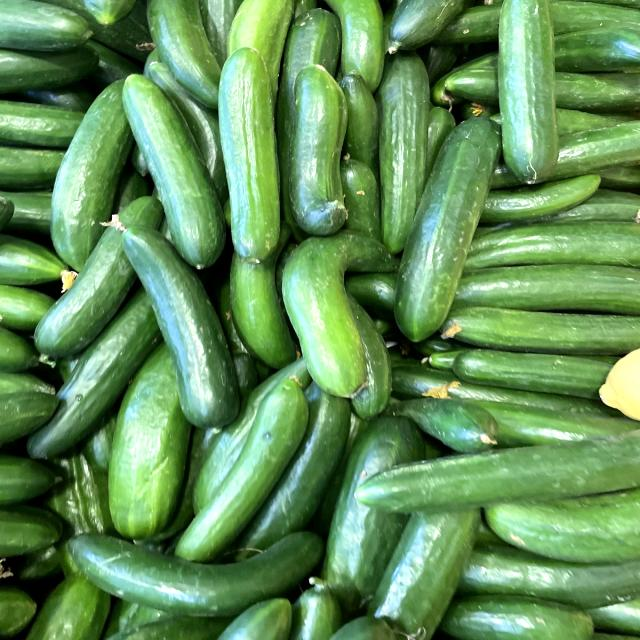cucumber: (101, 213, 251, 439), (384, 107, 519, 356), (167, 362, 324, 567), (114, 59, 245, 272), (216, 37, 291, 270), (485, 0, 575, 192)
